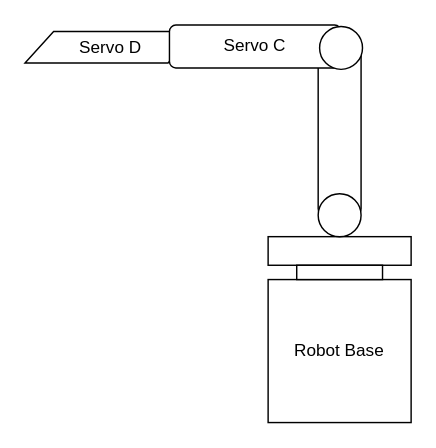
This 436x448 diagram has some shape labels left out. The shapes that lost their labels are listed below. From the top down, each one's centre as x and y in pixels, then its label:
At (339,128): "Servo B".
At (339,250): "Servo A".
